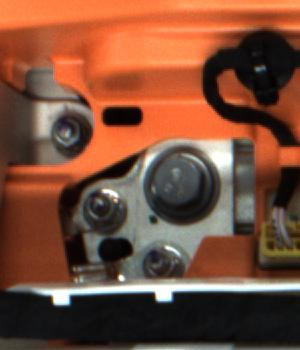nut_b: (143, 145, 219, 222)
screw_s: (76, 182, 124, 235), (143, 249, 188, 289), (53, 113, 85, 151)
